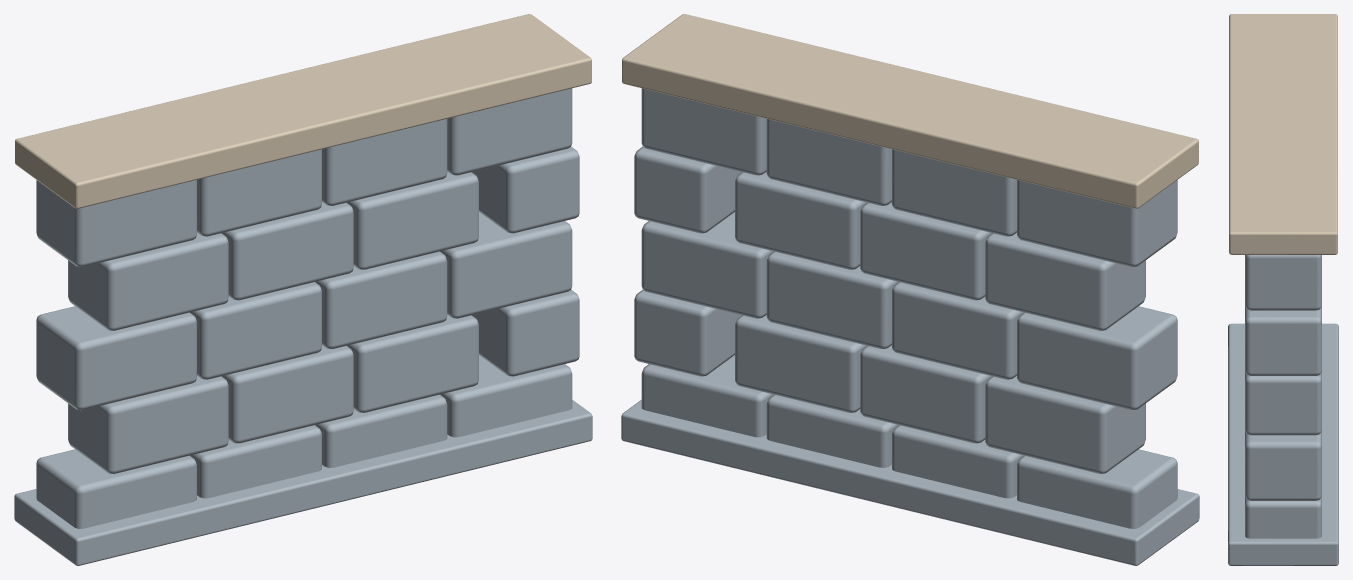
The model's file is wall_ashlar.glb.
The picture shows the model from 3 angles, left to right: view 1: azimuth 30°, elevation 25°; view 2: azimuth 150°, elevation 25°; view 3: azimuth 270°, elevation 25°; orthographic projection. The views are drawn at different scales.
Parts seen in each view (by area): view 1: wall_ashlar; view 2: wall_ashlar; view 3: wall_ashlar.
Boxes of the visible parts, x1,y1,x2,y2 form: wall_ashlar: [14, 14, 592, 565]; wall_ashlar: [621, 14, 1199, 565]; wall_ashlar: [1228, 14, 1338, 565].
Size of the model in its own units: 3.1 by 2.19 by 0.66.
